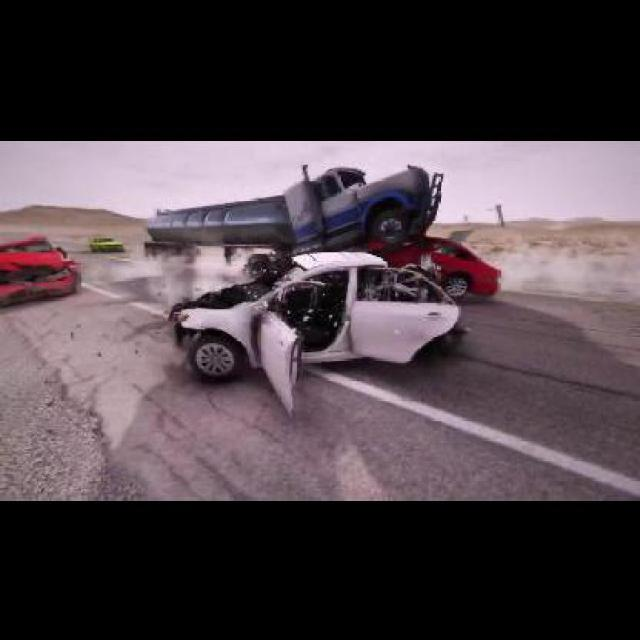accident: (140, 154, 503, 409), (2, 235, 80, 308)
